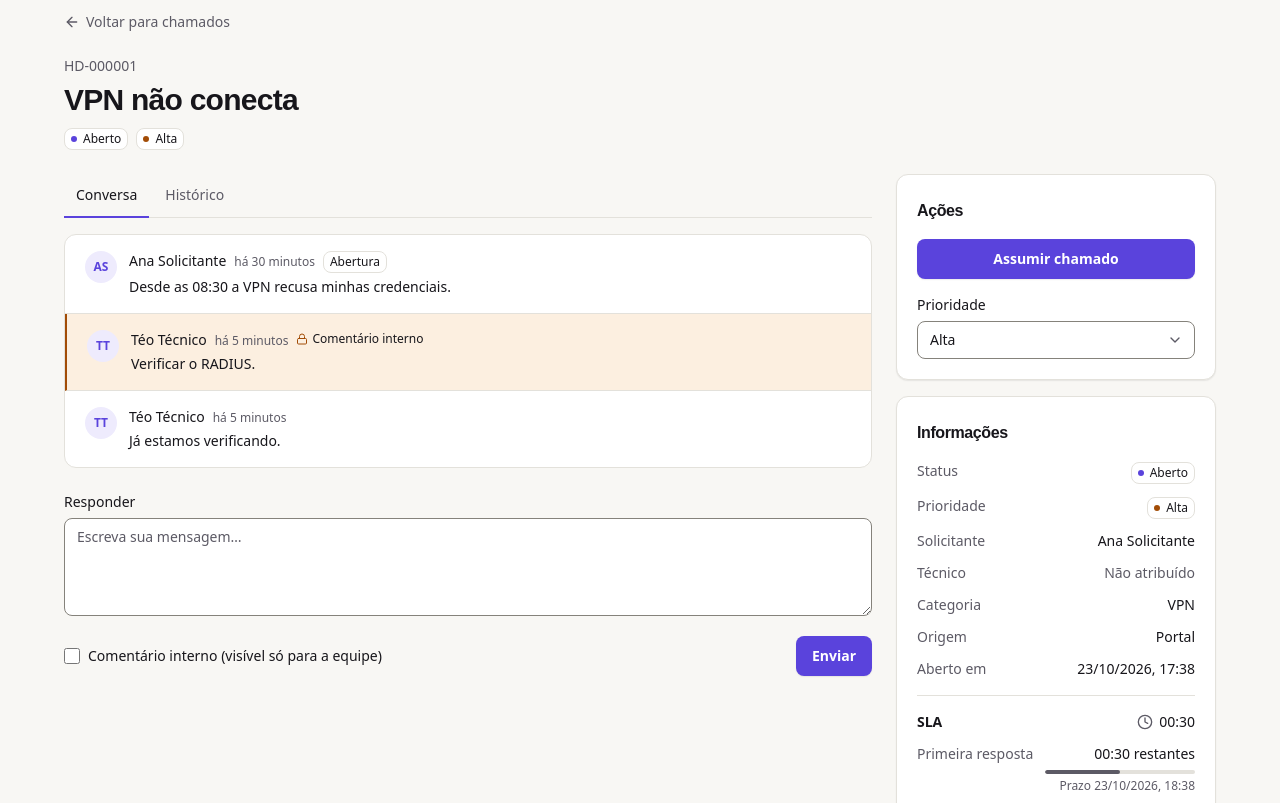
Test case: TicketDetailsPage › mostra o histórico com valores traduzidos
This screenshot has width=1280, height=803.
Click the tab "Histórico".
click(195, 196)  # box 153,174 -> 236,218
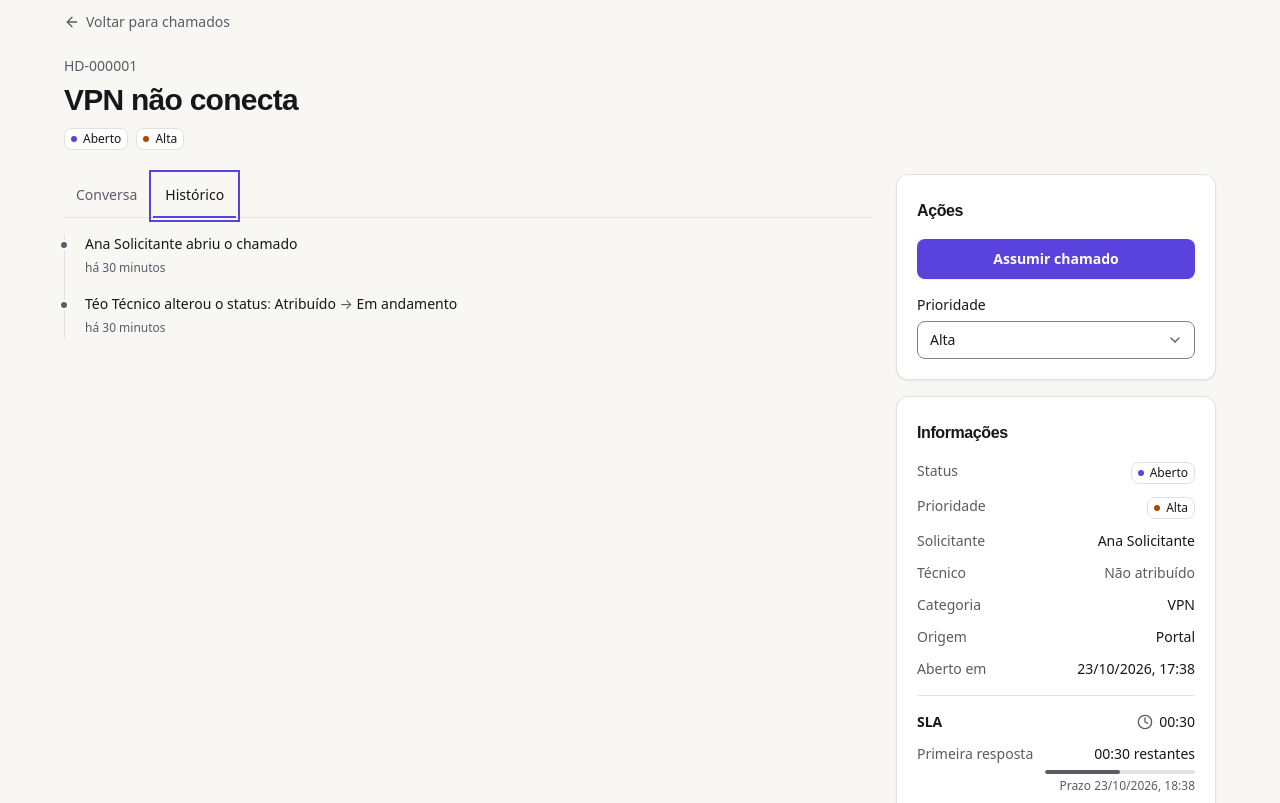
expect the text "alterou o status" is shown: met, box 164,294 -> 267,313
expect the text "Atribuído" is shown: met, box 275,294 -> 336,313
expect the text "Em andamento" is shown: met, box 357,294 -> 457,313
